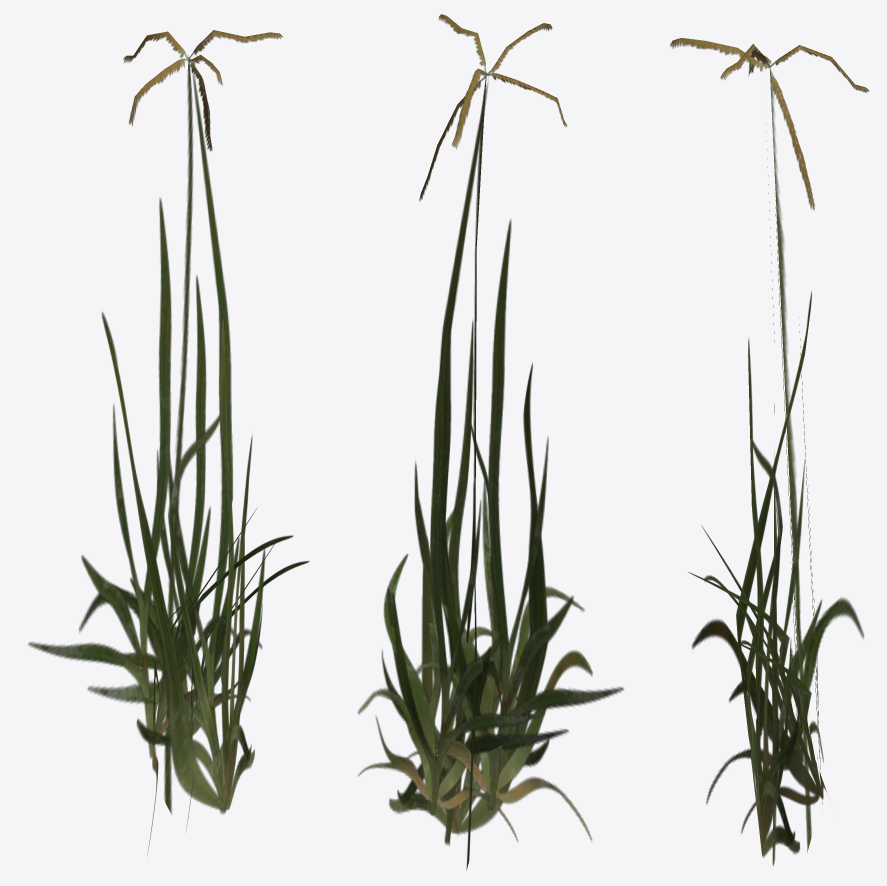
File: grass_clump_d.glb
3 renders of one model, left to right at view 1: azimuth 30°, elevation 25°; view 2: azimuth 150°, elevation 25°; view 3: azimuth 270°, elevation 25°, orthographic. The views are drawn at different scales.
Visible parts, largest first — view 1: grass_bermuda_01_medium_b.001, grass_bermuda_01_medium_e.003, grass_bermuda_01_medium_d.001, grass_bermuda_01_seedling_c.001, grass_bermuda_01_medium_e.002; view 2: grass_bermuda_01_medium_e.003, grass_bermuda_01_medium_e.002, grass_bermuda_01_medium_b.001, grass_bermuda_01_medium_d.001, grass_bermuda_01_seedling_c.001; view 3: grass_bermuda_01_medium_b.001, grass_bermuda_01_seedling_c.001, grass_bermuda_01_medium_e.002, grass_bermuda_01_medium_e.003, grass_bermuda_01_medium_d.001.
Part boxes in pixels (x1=…): grass_bermuda_01_medium_b.001: x1=101, y1=312, x2=262, y2=811; grass_bermuda_01_medium_e.003: x1=28, y1=198, x2=293, y2=855; grass_bermuda_01_medium_d.001: x1=87, y1=70, x2=265, y2=814; grass_bermuda_01_seedling_c.001: x1=79, y1=30, x2=282, y2=814; grass_bermuda_01_medium_e.002: x1=121, y1=275, x2=309, y2=830; grass_bermuda_01_medium_e.003: x1=407, y1=220, x2=623, y2=840; grass_bermuda_01_medium_e.002: x1=358, y1=316, x2=544, y2=841; grass_bermuda_01_medium_b.001: x1=381, y1=320, x2=549, y2=835; grass_bermuda_01_medium_d.001: x1=387, y1=82, x2=568, y2=845; grass_bermuda_01_seedling_c.001: x1=419, y1=14, x2=566, y2=870; grass_bermuda_01_medium_b.001: x1=736, y1=291, x2=811, y2=857; grass_bermuda_01_seedling_c.001: x1=670, y1=38, x2=869, y2=852; grass_bermuda_01_medium_e.002: x1=726, y1=317, x2=826, y2=833; grass_bermuda_01_medium_e.003: x1=688, y1=200, x2=807, y2=803; grass_bermuda_01_medium_d.001: x1=765, y1=106, x2=821, y2=865.
Size of the model in its own units: 1.16 by 3.4 by 0.7594.
1 material, 1 textured.
